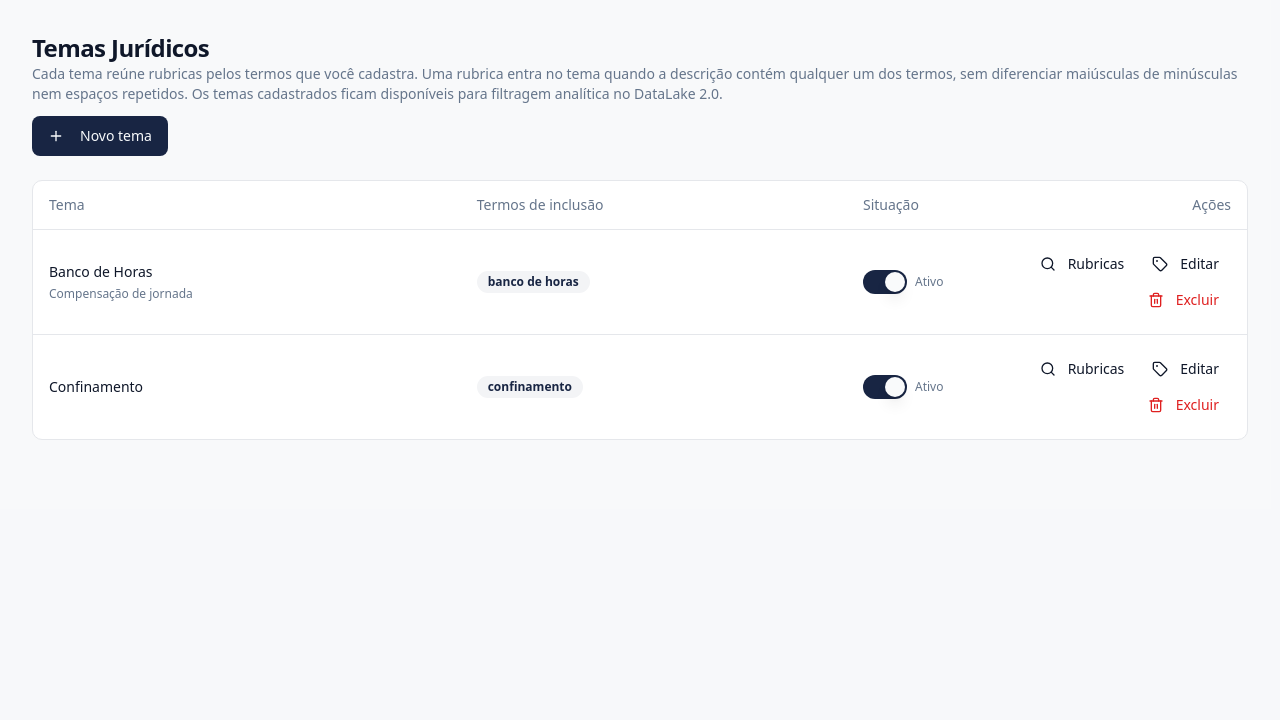
Temas — motor de gravação e exclusão › abre modal de confirmação e exclui tema chamando excluirTemaMotor
Later steps or results of the test are not shown.
Expected: the text "Banco de Horas" is shown, left=49, top=262, right=152, bottom=280
Click the button "Excluir" in the row of "Compensação de jornada" at (1183, 300), box left=1136, top=282, right=1231, bottom=318
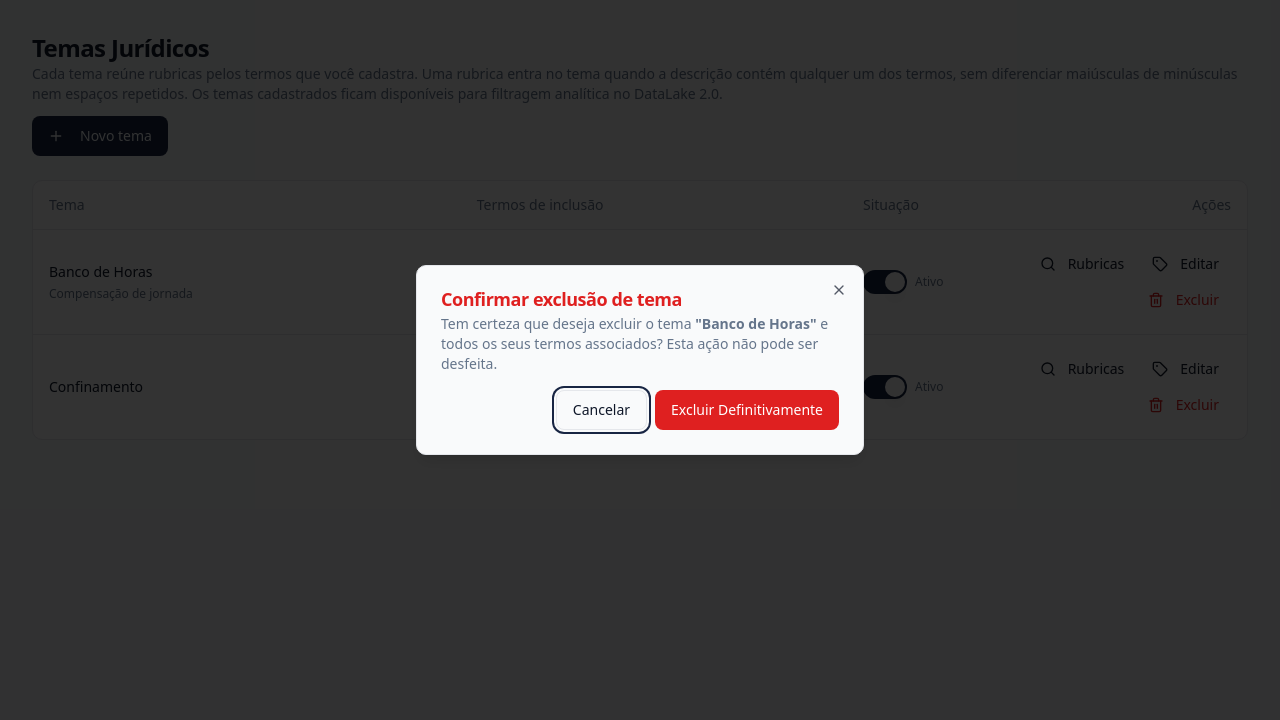
Now the heading "Confirmar exclusão de tema" is shown, box left=441, top=287, right=682, bottom=311
Now the text "Tem certeza que deseja excluir o tema" is shown, box left=441, top=314, right=695, bottom=333
